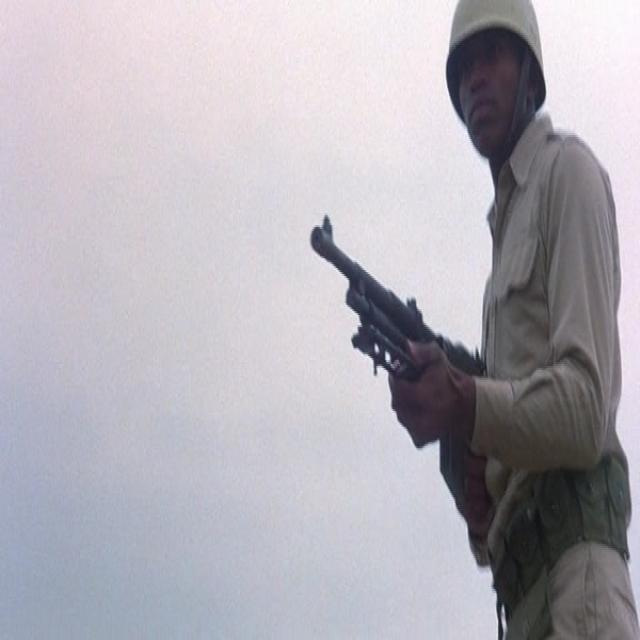rifle: (308, 213, 492, 501)
